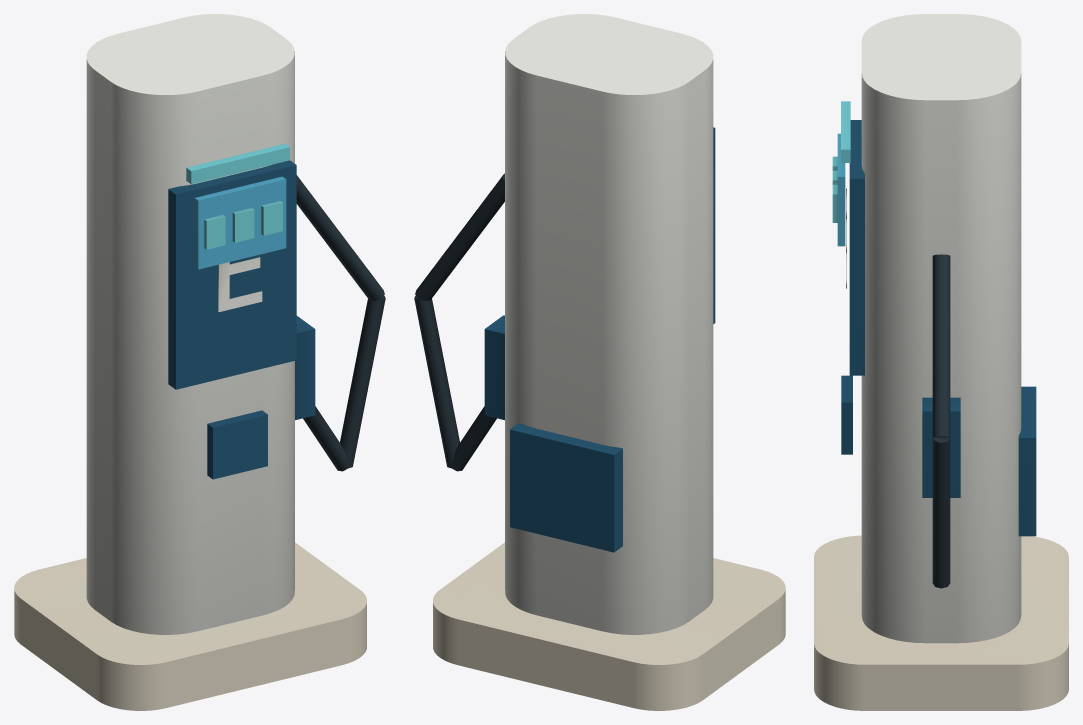
File: ev-charger.glb
The picture shows the model from 3 angles, left to right: view 1: azimuth 30°, elevation 25°; view 2: azimuth 150°, elevation 25°; view 3: azimuth 270°, elevation 25°; orthographic projection.
Parts seen in each view (by area): view 1: charging pedestal, charger base, charging face, charging cable, charging display glass, charge status; view 2: charging pedestal, charger base, charging face, charging cable; view 3: charging pedestal, charger base, charging face, charging cable, charge status, charging display glass.
Part boxes in pixels (x1=…): charging pedestal: x1=86, y1=14, x2=294, y2=634; charger base: x1=14, y1=542, x2=366, y2=710; charging face: x1=168, y1=160, x2=315, y2=479; charging cable: x1=296, y1=175, x2=385, y2=471; charging display glass: x1=194, y1=176, x2=286, y2=269; charge status: x1=186, y1=143, x2=289, y2=249; charging pedestal: x1=505, y1=14, x2=713, y2=634; charger base: x1=433, y1=542, x2=785, y2=710; charging face: x1=484, y1=127, x2=715, y2=552; charging cable: x1=414, y1=173, x2=504, y2=471; charging pedestal: x1=846, y1=14, x2=1021, y2=643; charger base: x1=814, y1=535, x2=1068, y2=710; charging face: x1=841, y1=120, x2=1036, y2=536; charging cable: x1=932, y1=254, x2=950, y2=588; charge status: x1=832, y1=101, x2=850, y2=222; charging display glass: x1=837, y1=133, x2=845, y2=246.
Bounding box in the file's own units: 0.5937 × 1.02 × 0.4.
